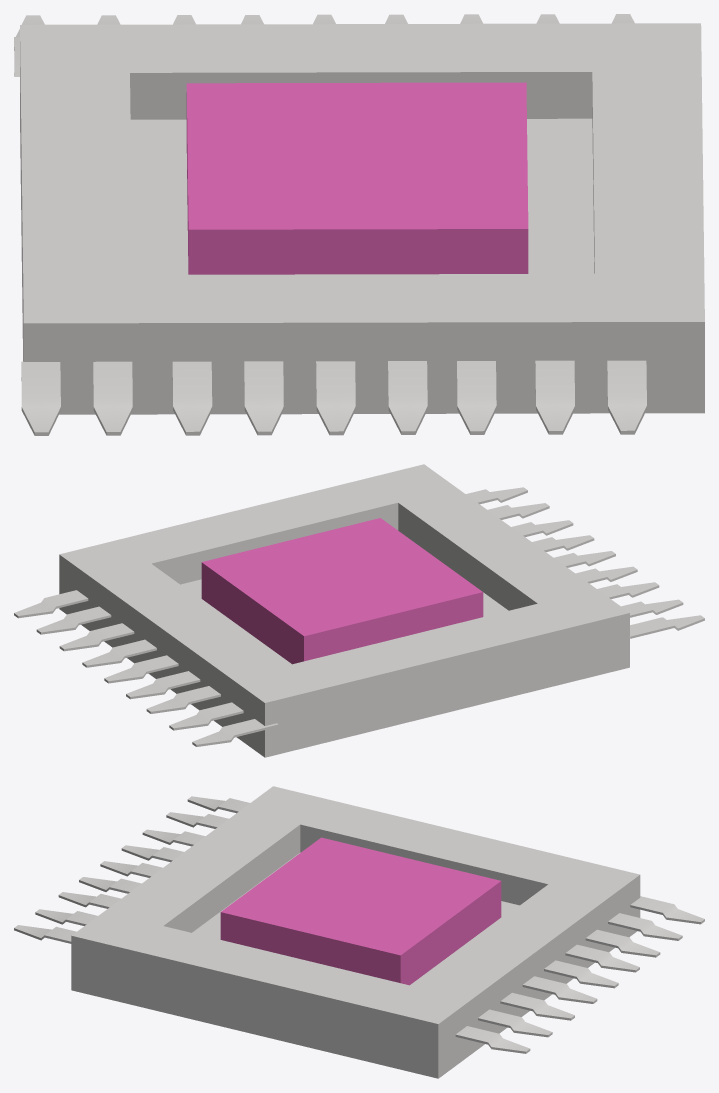
File: Habilidad SlowMo.fbx
The picture shows the model from 3 angles, top to bottom: view 1: azimuth 30°, elevation 25°; view 2: azimuth 150°, elevation 25°; view 3: azimuth 270°, elevation 25°; orthographic projection. The views are drawn at different scales.
Visible parts, largest first — view 1: Emissive; view 2: Emissive; view 3: Emissive.
Part boxes in pixels (x1,y1,x2,y2): Emissive: [14, 14, 704, 435]; Emissive: [14, 464, 704, 757]; Emissive: [14, 786, 704, 1078].
Size of the model in its own units: 33.59 by 3.87 by 38.41.
